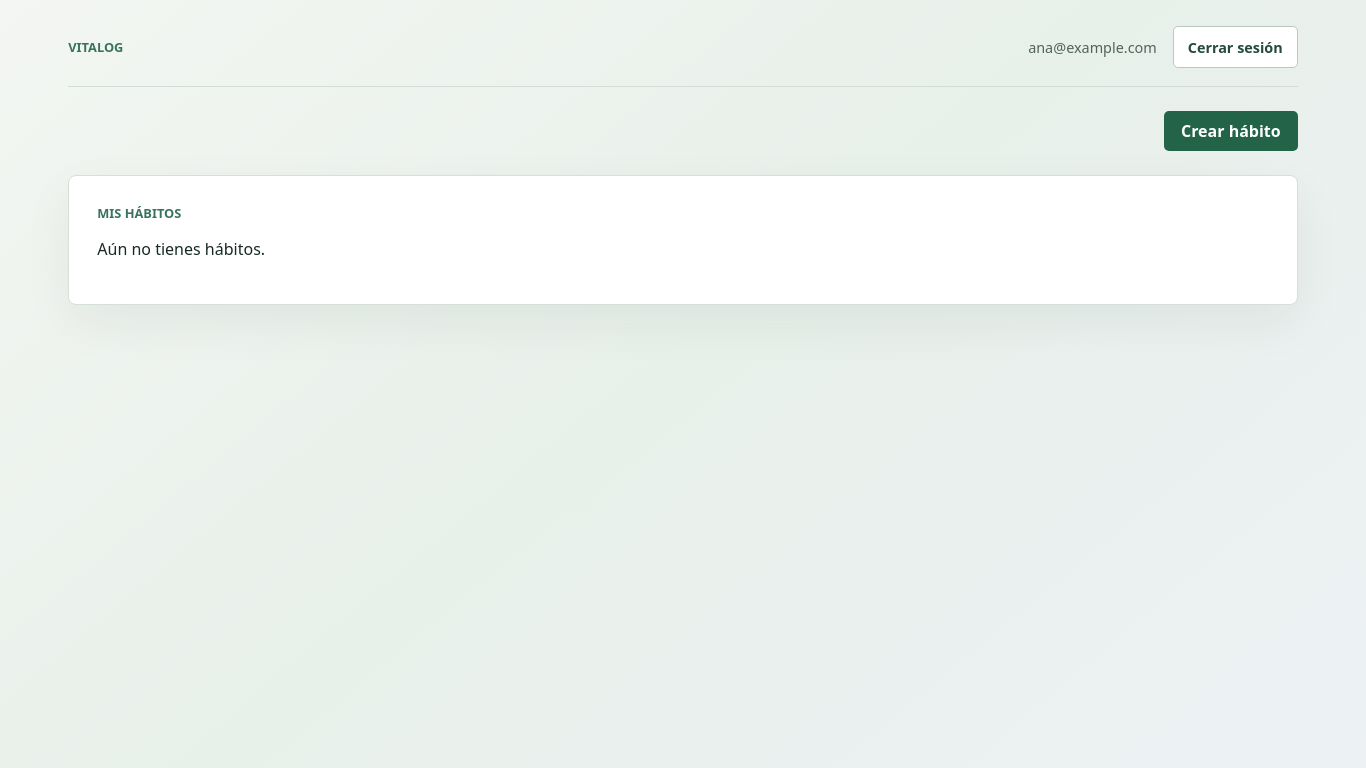
Test case: oculta el formulario al entrar y lo muestra al pulsar Crear hábito
Expected: the field labelled "Nombre del hábito" is not shown
Click the button "Crear hábito" at (1231, 131), box [1164, 111, 1298, 151]
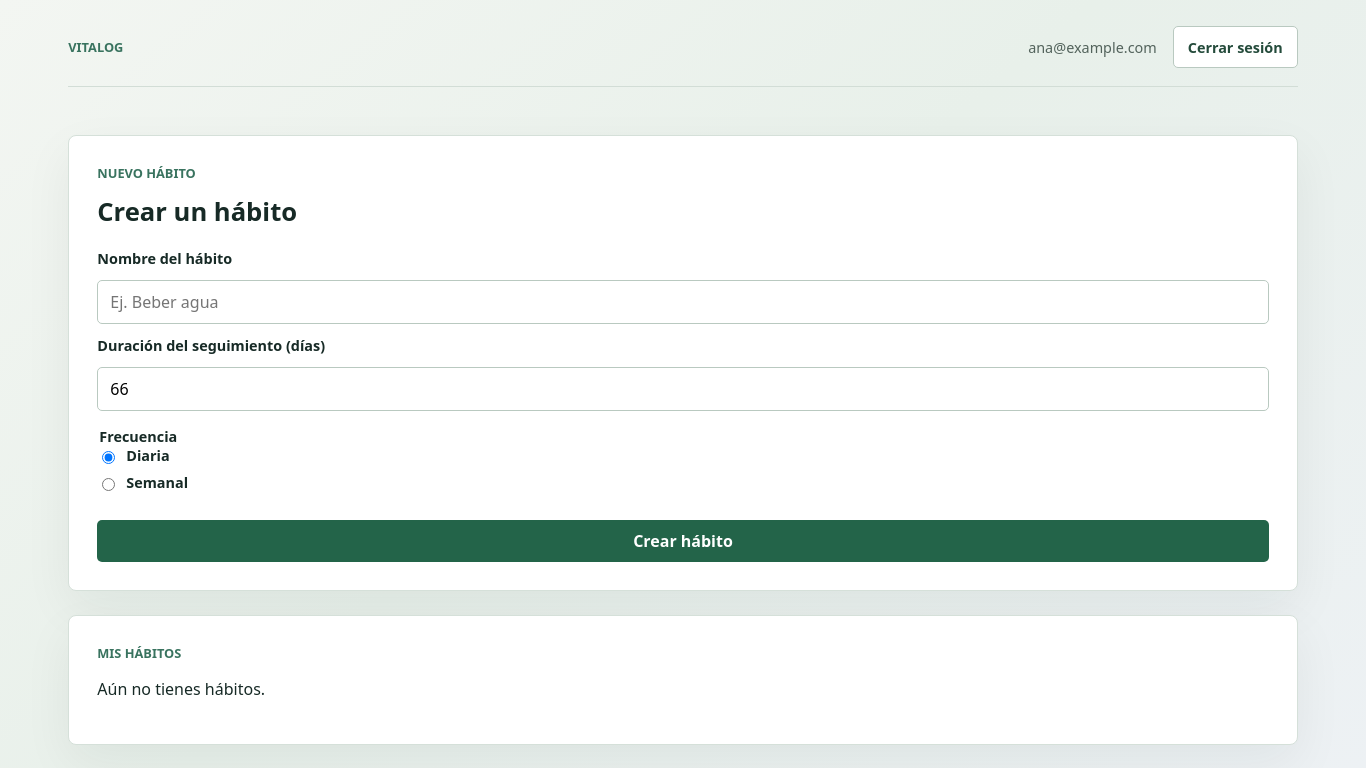
Now the field labelled "Nombre del hábito" is shown, box [97, 280, 1269, 324]
